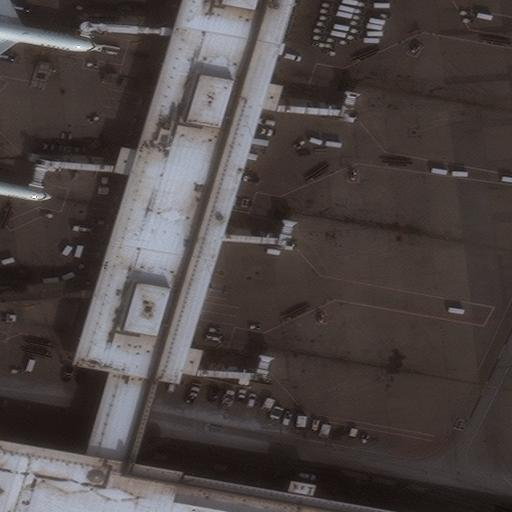Large Civil Transport: (0, 0, 103, 79)
Medium Civil Transport: (0, 152, 53, 214)
